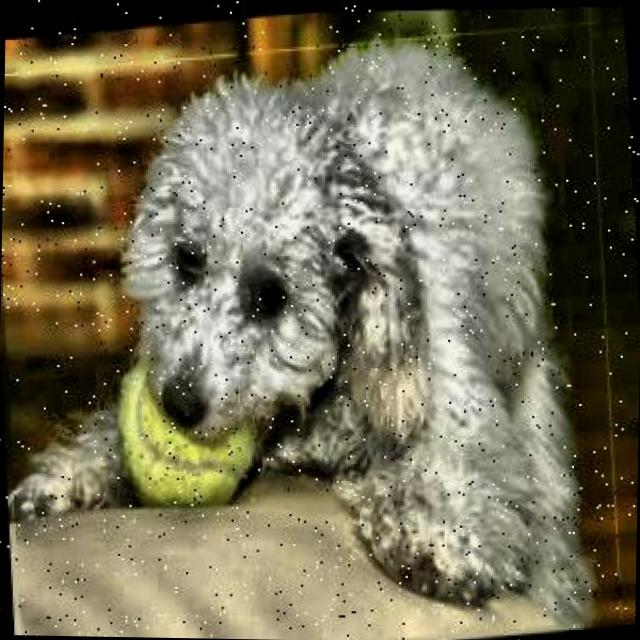Tennis Ball: (112, 343, 260, 512)
